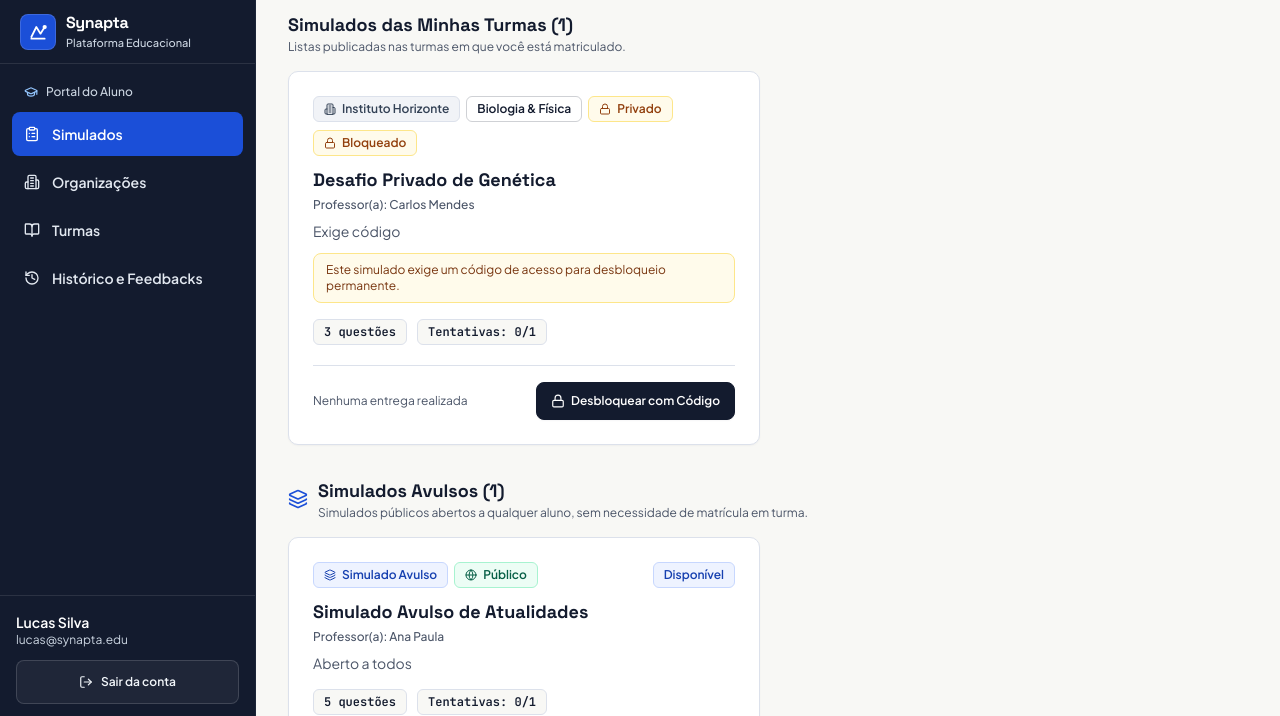
Test case: HierarchyAndAccessCodes › exibe Simulados Avulsos e permite desbloquear simulado privado permanente no painel do aluno
(page scrolled)
Expected: the heading "Desafio Privado de Genética" is shown, [313,168,556,191]
Expected: the heading "Simulado Avulso de Atualidades" is shown, [313,600,588,623]
Click the button "Desbloquear com Código" at (636, 401), box [536,382,735,420]
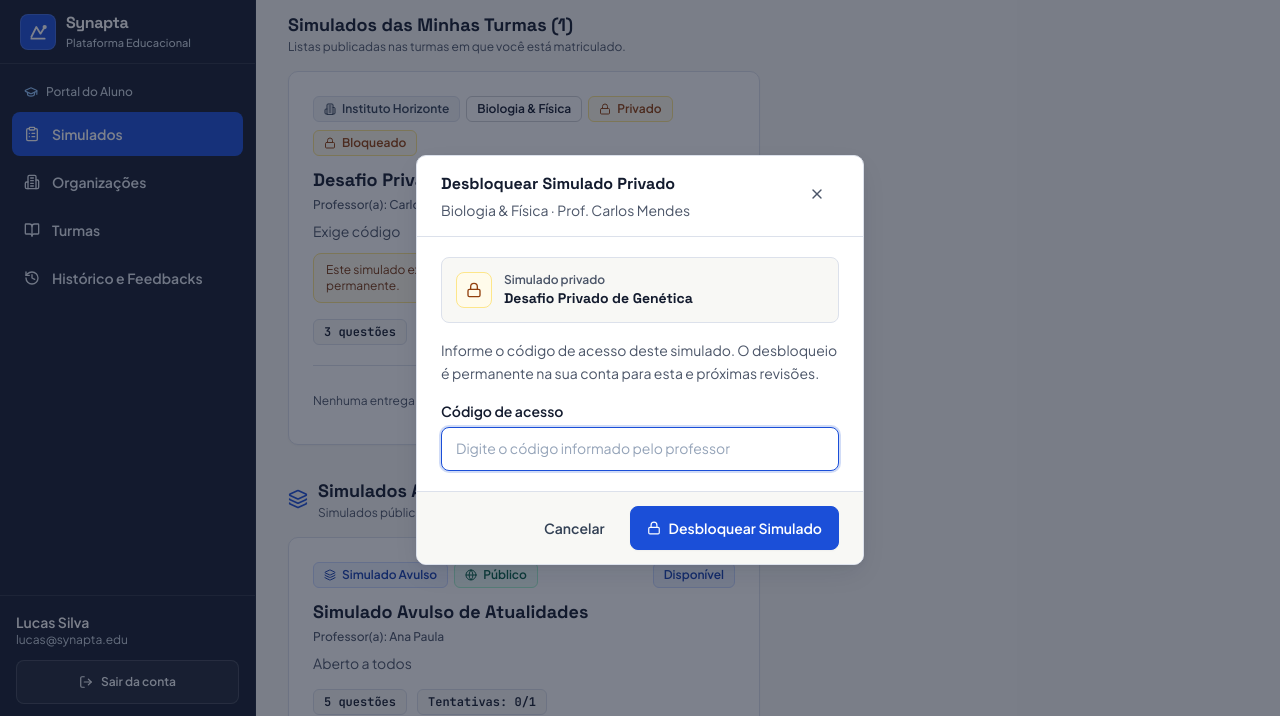
Type "DESAFIO26" into the field labelled "Código de acesso" at (640, 449), box [441,427,839,471]
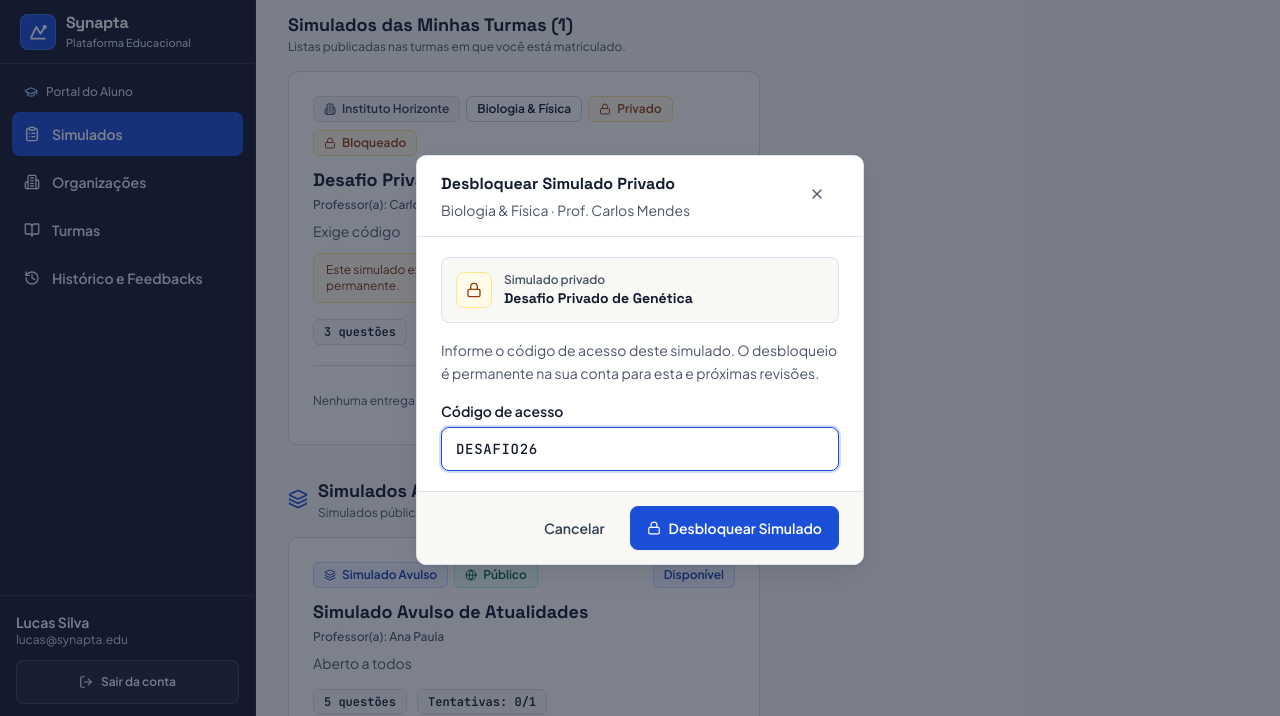
Click the button "Desbloquear Simulado" at (734, 528), box [630,506,839,550]
(page scrolled)
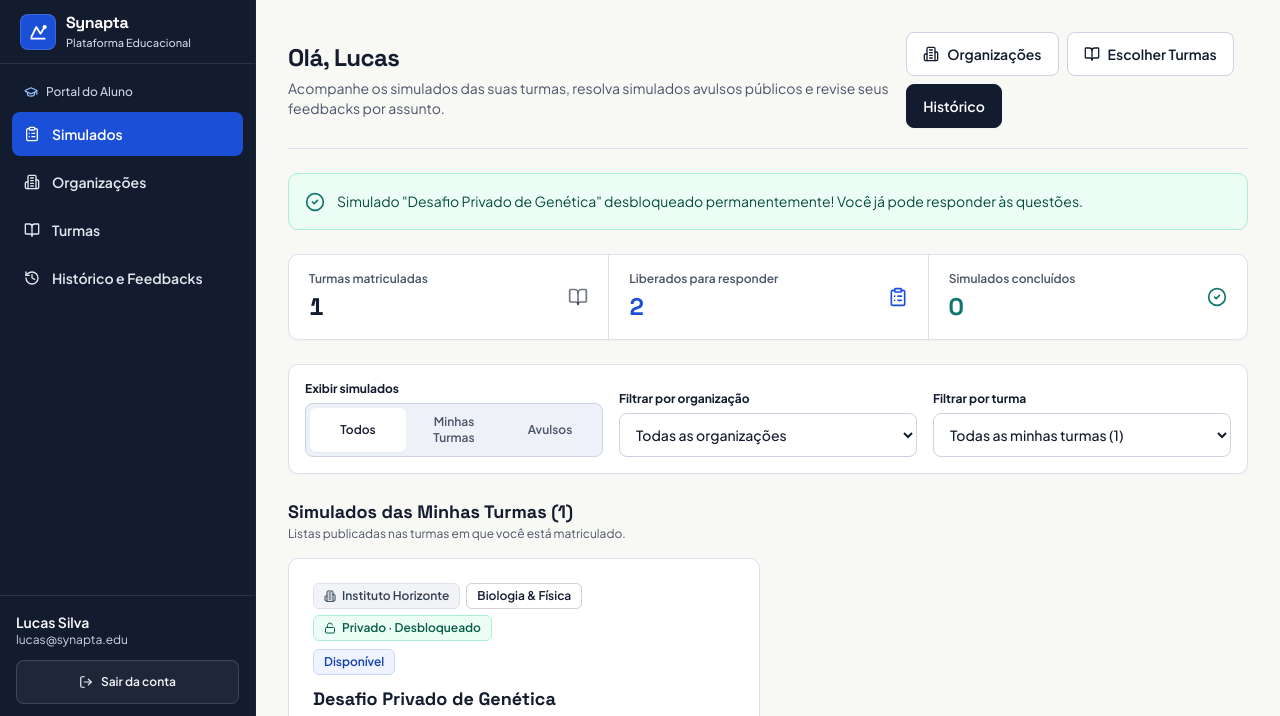
Expected: the text "desbloqueado permanentemente" is shown, [337,192,1083,210]
